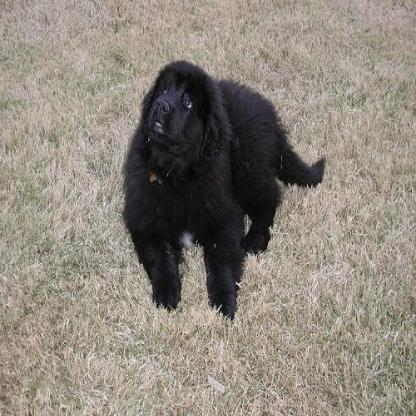Newfoundland: (115, 49, 331, 328)
